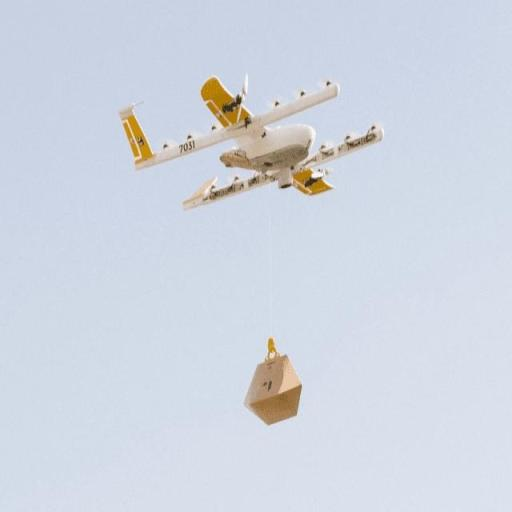uav: (75, 69, 414, 244)
